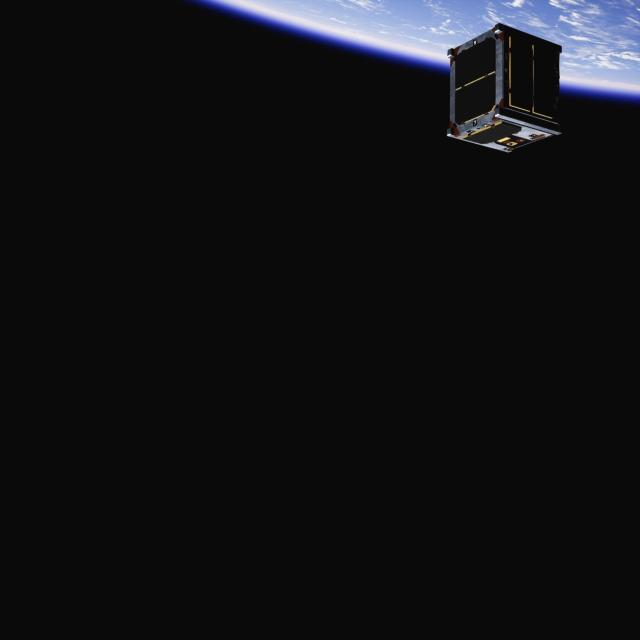satellite: (443, 22, 571, 161)
